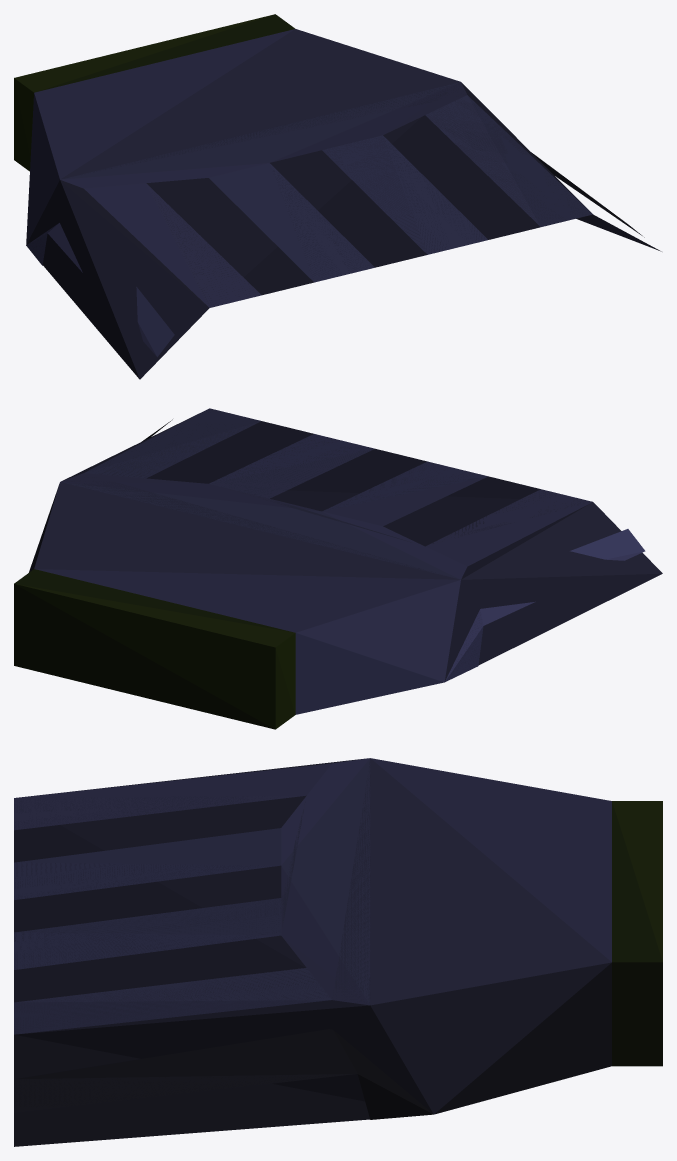
Rendered from mithril-plateskirt.obj.
The picture shows the model from 3 angles, top to bottom: view 1: azimuth 30°, elevation 25°; view 2: azimuth 150°, elevation 25°; view 3: azimuth 270°, elevation 25°; orthographic projection. The views are drawn at different scales.
Visible parts, largest first — view 1: Item Mithril plateskirt 2026-09-24_18-13-57; view 2: Item Mithril plateskirt 2026-09-24_18-13-57; view 3: Item Mithril plateskirt 2026-09-24_18-13-57.
Part boxes in pixels (left/top/right/bottom): Item Mithril plateskirt 2026-09-24_18-13-57: left=14, top=14, right=661, bottom=379; Item Mithril plateskirt 2026-09-24_18-13-57: left=14, top=408, right=662, bottom=729; Item Mithril plateskirt 2026-09-24_18-13-57: left=14, top=758, right=662, bottom=1146.
Bounding box in the file's own units: 60 × 9 × 51.
